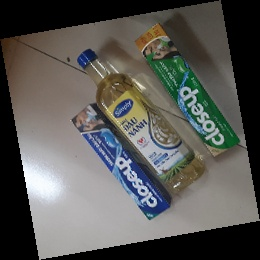CloseUp Tuyet: (70, 103, 174, 220)
CloseUp Xanh: (134, 23, 240, 157)
Simply: (76, 49, 208, 195)
